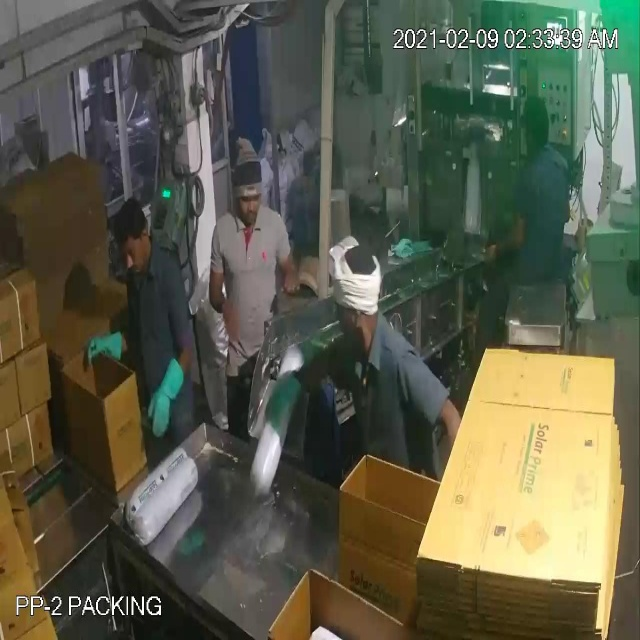Guantes: (147, 354, 190, 450), (261, 353, 308, 439), (76, 322, 126, 381)
Sin_guantes: (206, 245, 245, 356), (263, 236, 304, 312), (488, 201, 527, 266)
